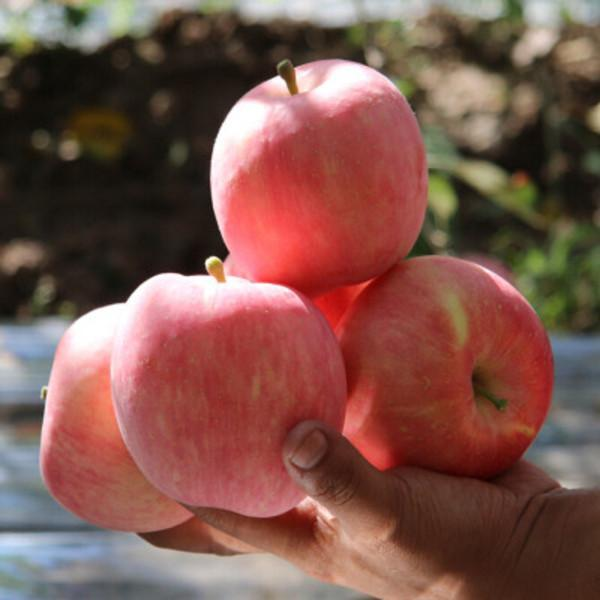apple: (108, 266, 347, 524), (210, 60, 429, 306), (327, 254, 556, 480)
